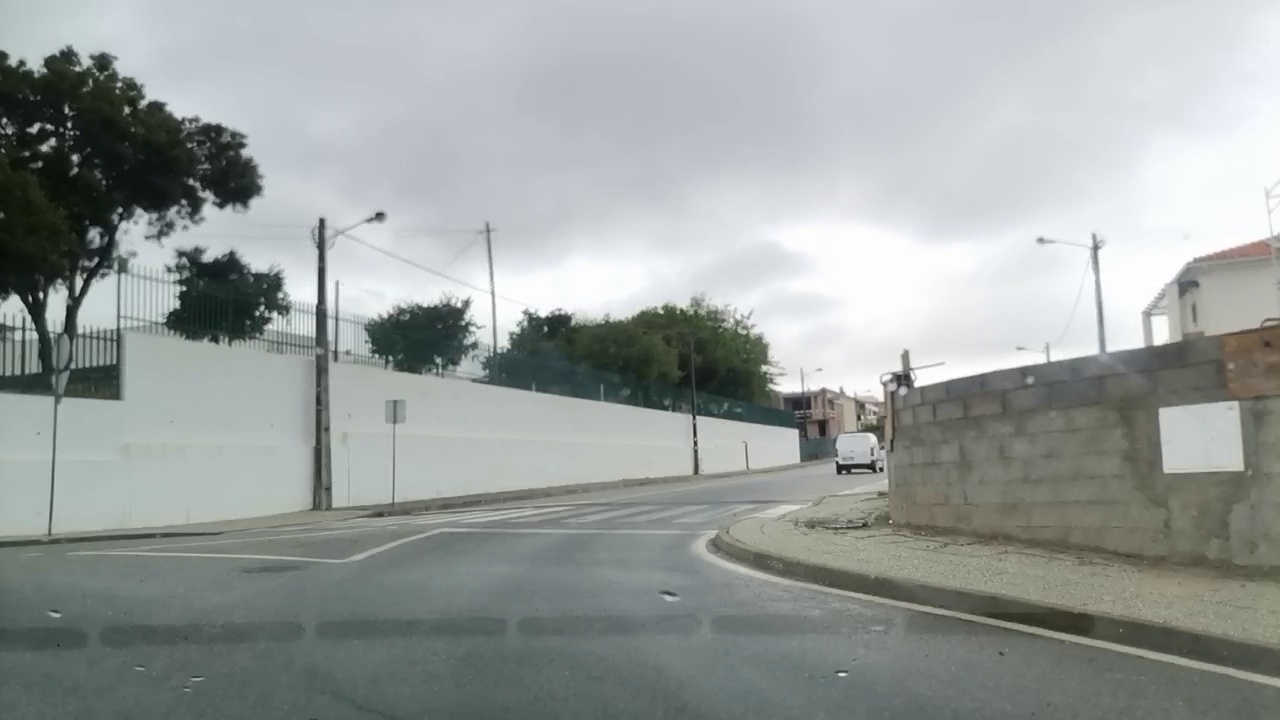Stairs: (378, 495, 811, 529)
